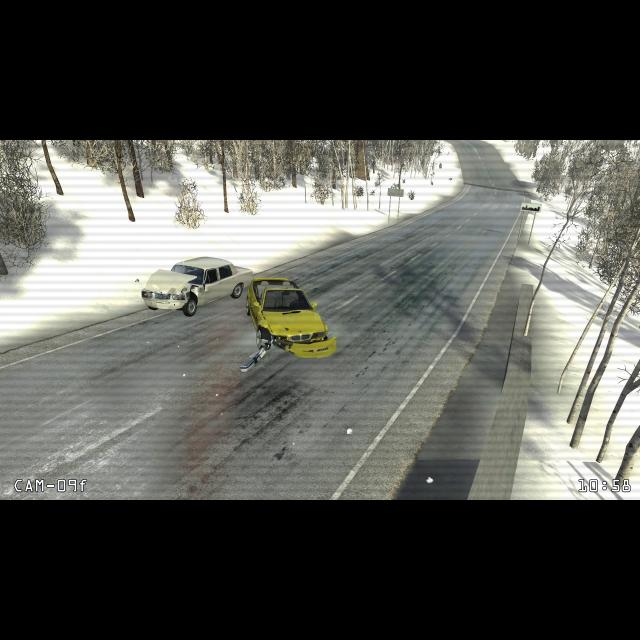accident: (131, 248, 343, 365)
